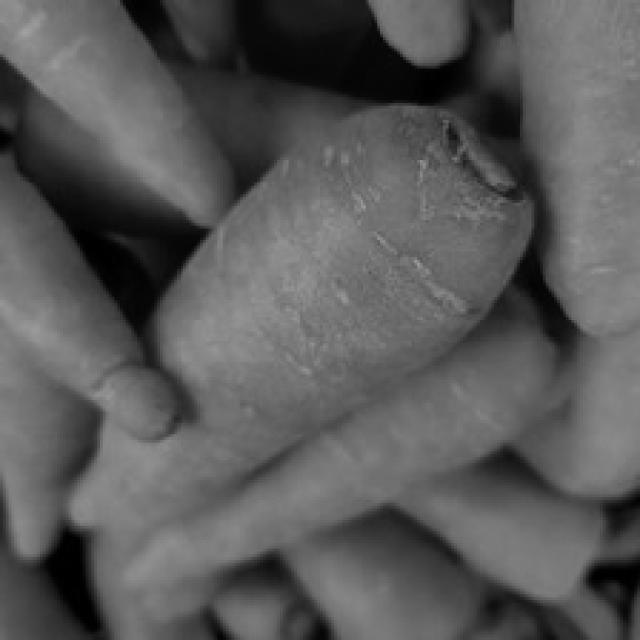Fresh_Carrot: (0, 0, 227, 217), (0, 175, 157, 475), (508, 6, 640, 340)
